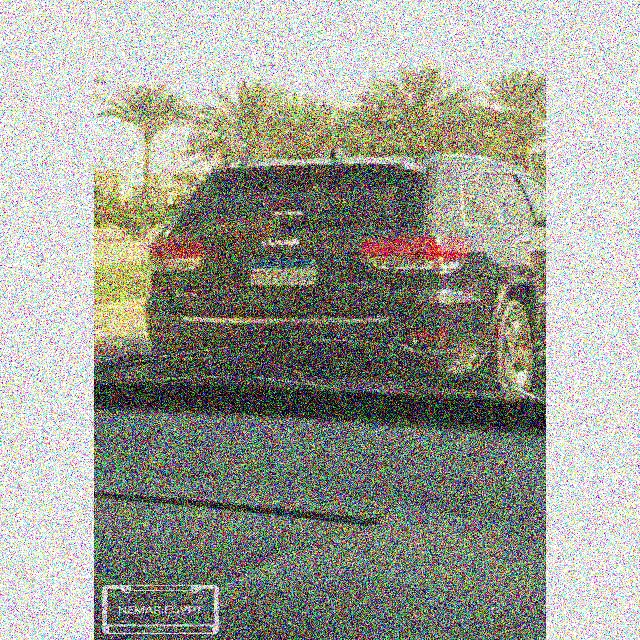License Plate: (247, 254, 321, 290)
